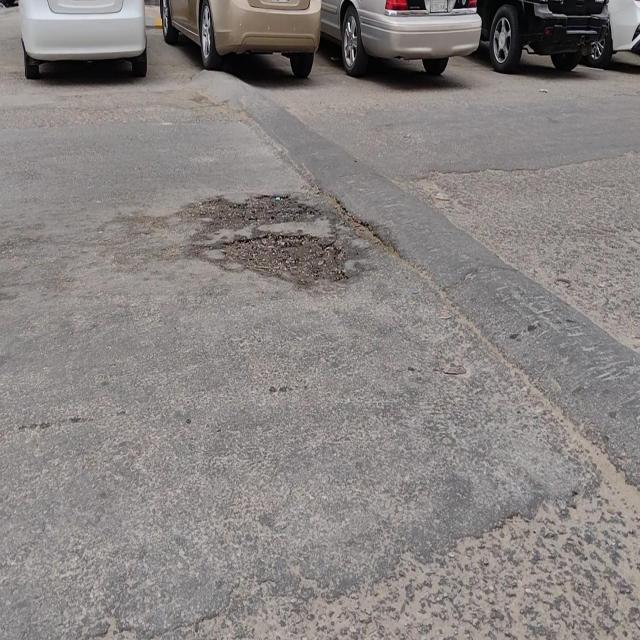Potholes: (212, 228, 348, 288), (203, 188, 322, 233)
